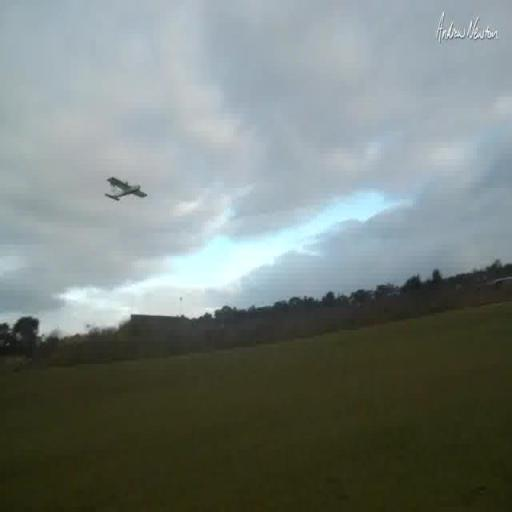uav: (92, 152, 154, 220)
